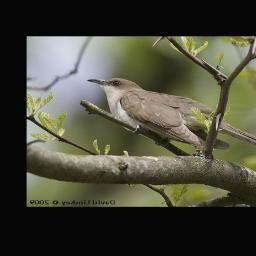Cuckoo: (89, 76, 256, 164)
